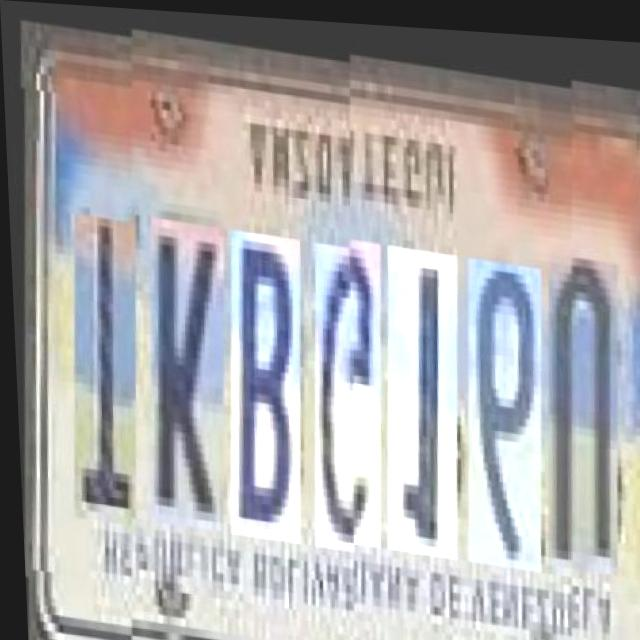1: (371, 241, 461, 554)
6: (451, 251, 546, 564)
b: (215, 221, 305, 535)
g: (298, 231, 385, 544)
k: (134, 213, 228, 526)
t: (58, 202, 141, 515)
u: (531, 252, 621, 574)
